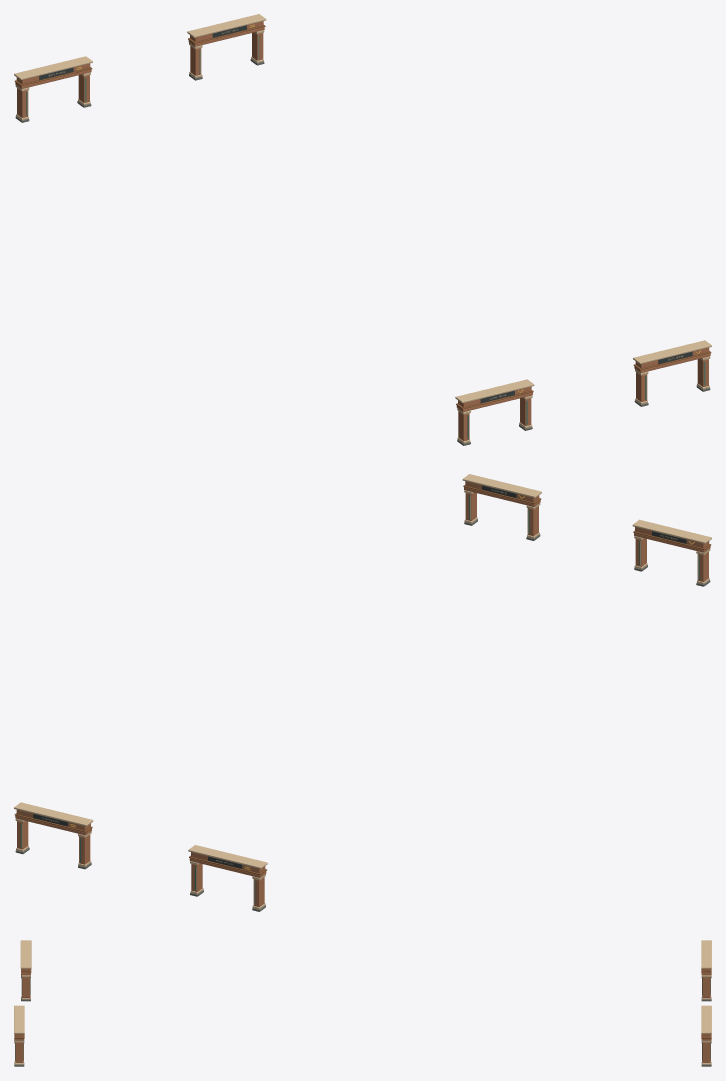
File: artifact-fold-lintels.glb
3 renders of one model, top to bottom at view 1: azimuth 30°, elevation 25°; view 2: azimuth 150°, elevation 25°; view 3: azimuth 270°, elevation 25°, orthographic. The views are drawn at different scales.
Visible parts, largest first — view 1: no part large enough to name; view 2: no part large enough to name; view 3: Shelter drip mould, Shelter drip mould.001, Shelter drip mould.002, Shelter drip mould.003.
Boxes of the visible parts, bbox=[...] form: Shelter drip mould: bbox=[20, 940, 31, 968]; Shelter drip mould.001: bbox=[14, 1005, 24, 1033]; Shelter drip mould.002: bbox=[701, 940, 711, 968]; Shelter drip mould.003: bbox=[701, 1005, 711, 1033].
Size of the model in its own units: 22.67 by 3.96 by 72.42.
